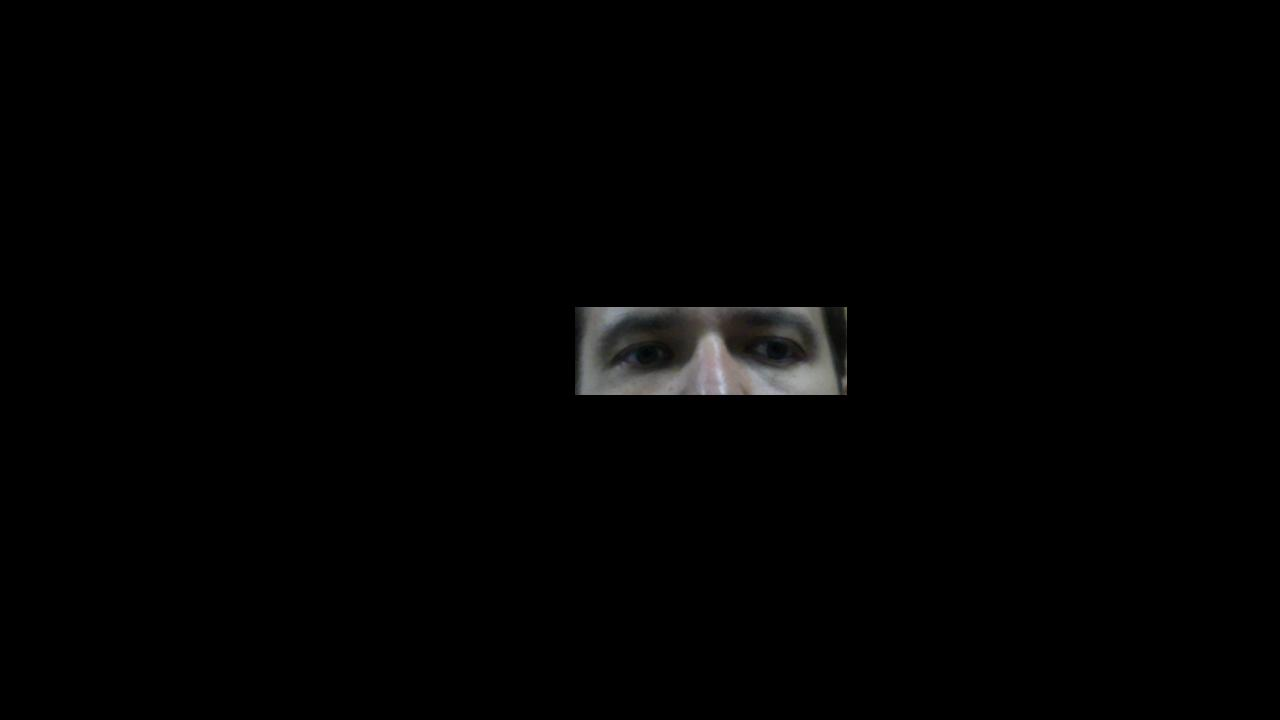eye: (635, 345, 660, 364), (766, 342, 785, 360)
